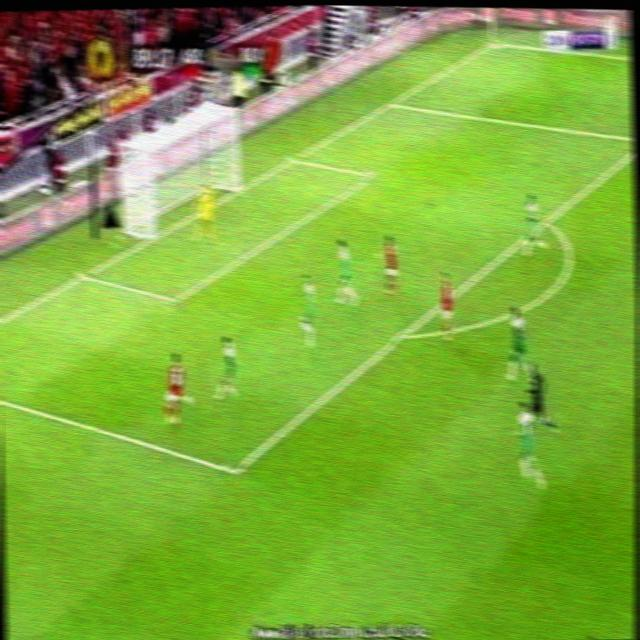bigarea_bottom_inner: (222, 455, 244, 486)
bigarea_top_outter: (383, 96, 397, 110)
bottom_arc_area_intersection: (392, 324, 411, 346)
corner: (485, 37, 501, 49)
smallarea_bottom_inner: (164, 286, 184, 311)
smallarea_bottom_outter: (75, 265, 92, 284)
smallarea_top_inner: (365, 169, 378, 183)
smallarea_top_outter: (284, 150, 300, 166)
top_arc_area_intersection: (539, 211, 552, 229)
